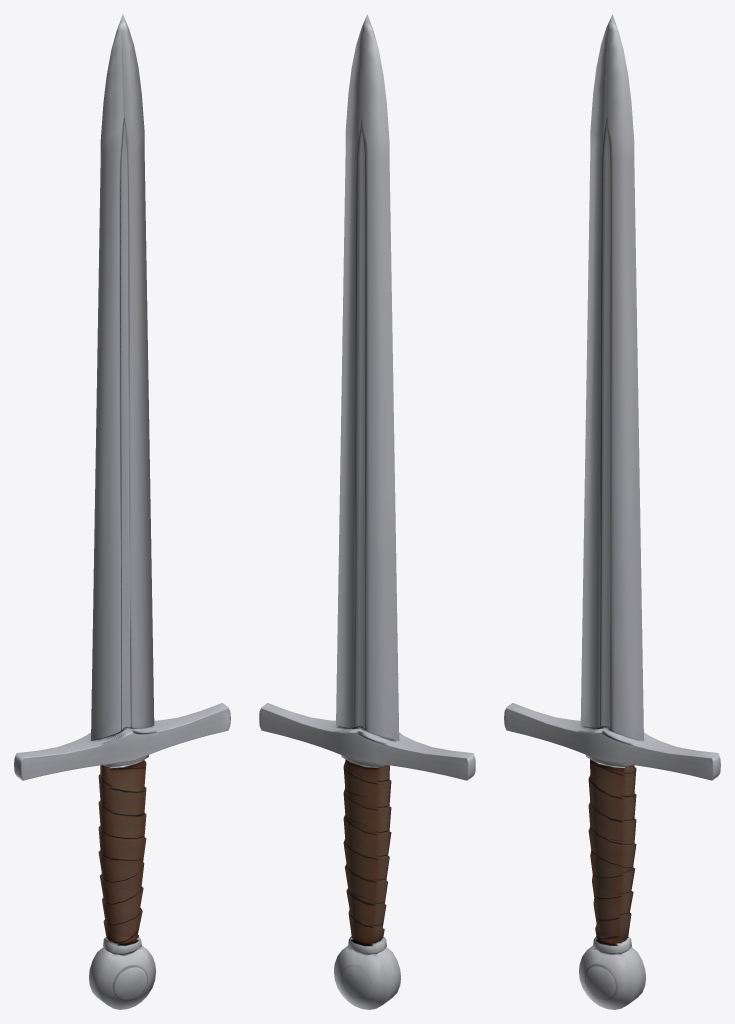
The model's file is medieval_sword_3d_model.fbx.
3 renders of one model, left to right at view 1: azimuth 30°, elevation 25°; view 2: azimuth 150°, elevation 25°; view 3: azimuth 330°, elevation 25°, orthographic.
Visible parts, largest first — view 1: tripo_5998b4a2_bd46_4328_8a8f_c9f097de2f18; view 2: tripo_5998b4a2_bd46_4328_8a8f_c9f097de2f18; view 3: tripo_5998b4a2_bd46_4328_8a8f_c9f097de2f18.
Part boxes in pixels (bbox=[...]): tripo_5998b4a2_bd46_4328_8a8f_c9f097de2f18: bbox=[14, 14, 230, 1009]; tripo_5998b4a2_bd46_4328_8a8f_c9f097de2f18: bbox=[259, 14, 475, 1009]; tripo_5998b4a2_bd46_4328_8a8f_c9f097de2f18: bbox=[504, 14, 720, 1009].
Size of the model in its own units: 0.2222 by 0.9995 by 0.0405.
1 material, 1 textured.
